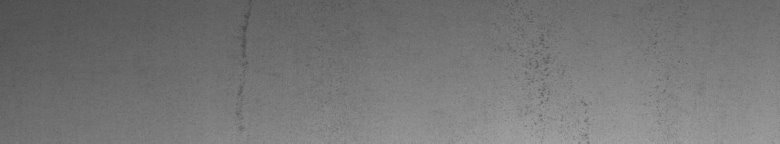ib: (510, 16, 591, 123)
